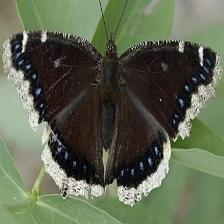butterfly: (3, 31, 223, 206)
